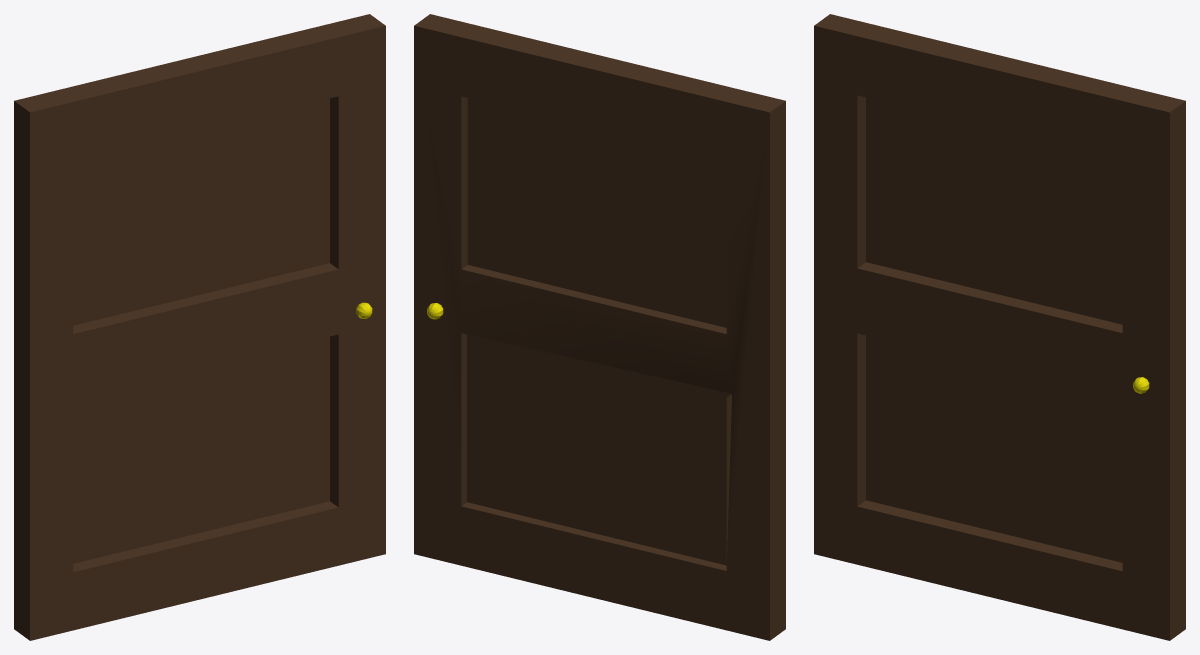
The model's file is Door.fbx.
3 renders of one model, left to right at view 1: azimuth 30°, elevation 25°; view 2: azimuth 150°, elevation 25°; view 3: azimuth 330°, elevation 25°, orthographic.
Visible parts, largest first — view 1: pCube4; view 2: pCube4; view 3: pCube4.
Boxes of the visible parts, x1,y1,x2,y2 form: pCube4: [14, 14, 385, 640]; pCube4: [414, 14, 785, 640]; pCube4: [814, 14, 1185, 640].
Size of the model in its own units: 4.61 by 6.55 by 0.7218.
